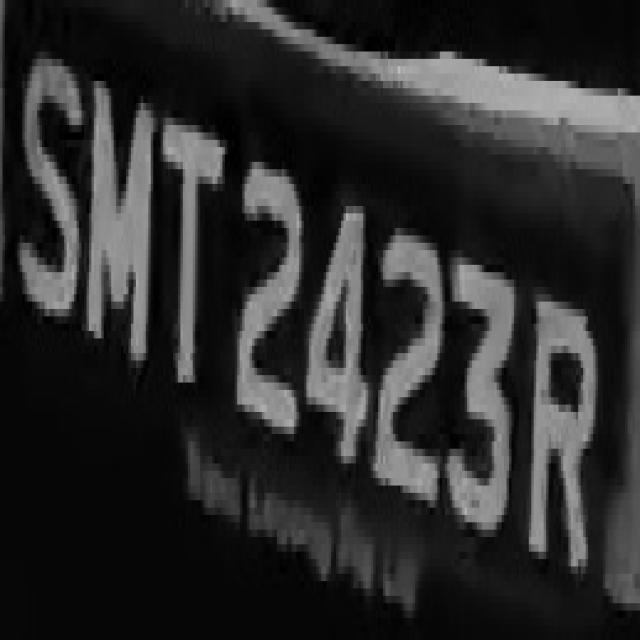2: (238, 132, 306, 464), (378, 191, 442, 530)
3: (442, 221, 516, 544)
4: (304, 147, 378, 486)
M: (84, 52, 161, 375)
R: (526, 258, 598, 581)
S: (22, 22, 92, 338)
T: (153, 103, 225, 412)
